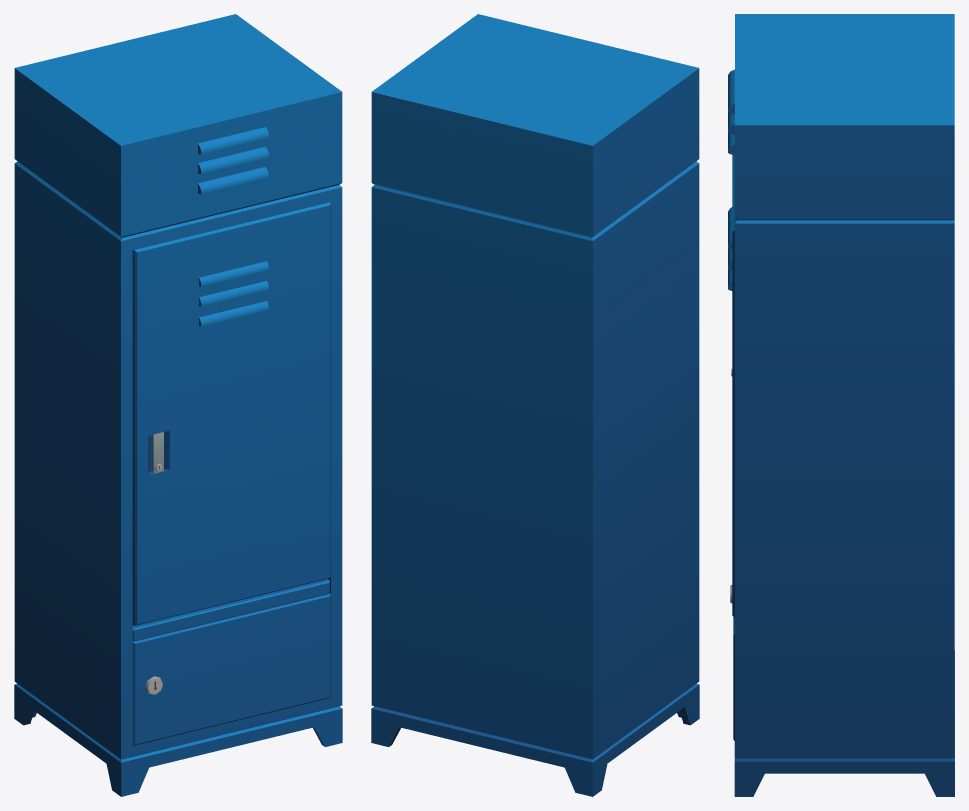
File: CR_LockerA.FBX
3 views of the same model, side by side, from view 1: azimuth 30°, elevation 25°; view 2: azimuth 150°, elevation 25°; view 3: azimuth 270°, elevation 25° (orthographic). The views are drawn at different scales.
Visible parts, largest first — view 1: CR_LockerA, CR_LockerA_Door; view 2: CR_LockerA; view 3: CR_LockerA, CR_LockerA_Door.
Boxes of the visible parts, left/top/right/bottom form: CR_LockerA: left=14, top=14, right=342, bottom=796; CR_LockerA_Door: left=132, top=202, right=330, bottom=625; CR_LockerA: left=371, top=14, right=699, bottom=796; CR_LockerA: left=728, top=14, right=954, bottom=796; CR_LockerA_Door: left=728, top=155, right=734, bottom=617.
Bounding box in the file's own units: 54 × 152 × 46.48.
